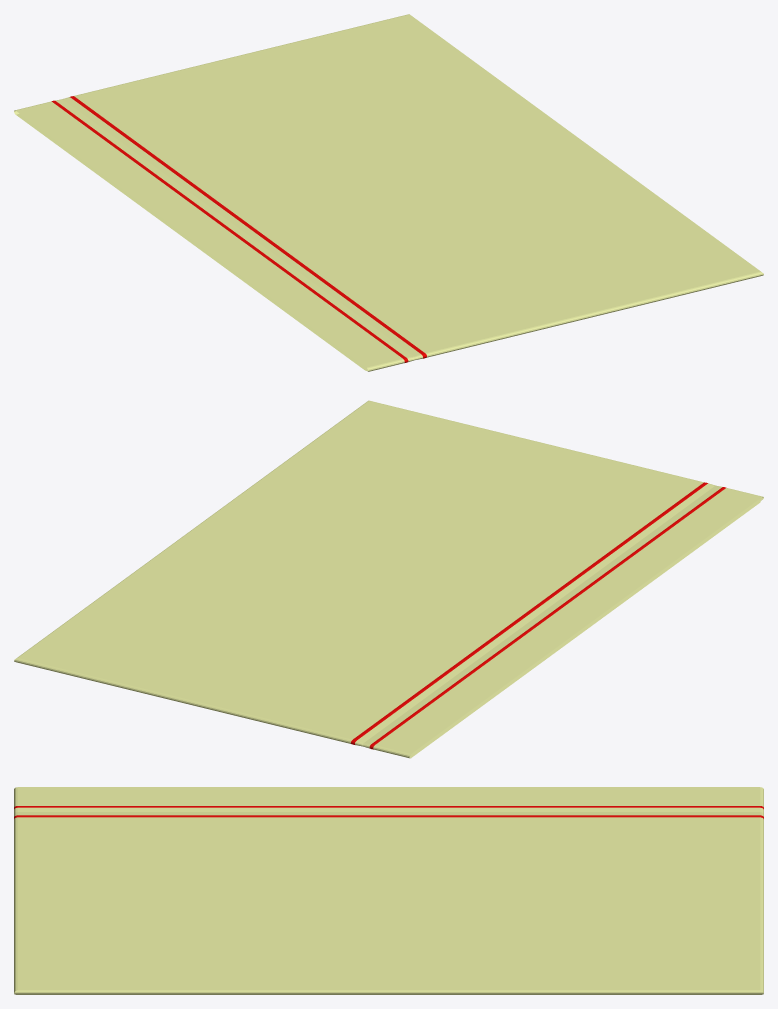
Rendered from ZiplockBag.fbx.
3 renders of one model, top to bottom at view 1: azimuth 30°, elevation 25°; view 2: azimuth 150°, elevation 25°; view 3: azimuth 270°, elevation 25°, orthographic. The views are drawn at different scales.
Parts seen in each view (by area): view 1: Plane; view 2: Plane; view 3: Plane.
Boxes of the visible parts, left/top/right/bottom form: Plane: left=14, top=14, right=763, bottom=371; Plane: left=14, top=400, right=763, bottom=758; Plane: left=14, top=787, right=763, bottom=994.
Size of the model in its own units: 200 by 2.2 by 311.
